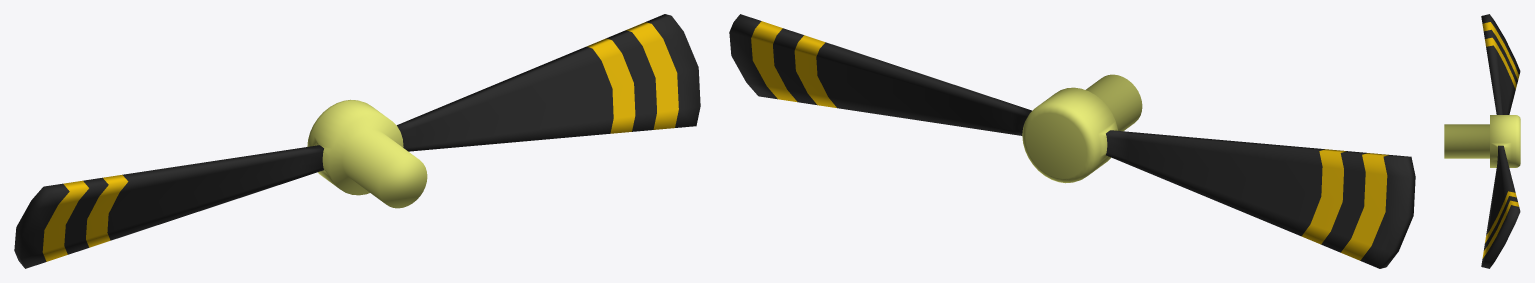
The model's file is cessnagodotprop.glb.
3 views of the same model, side by side, from view 1: azimuth 30°, elevation 25°; view 2: azimuth 150°, elevation 25°; view 3: azimuth 270°, elevation 25° (orthographic). The views are drawn at different scales.
Parts seen in each view (by area): view 1: Prop; view 2: Prop; view 3: Prop.
Part boxes in pixels (x1=…): Prop: x1=14, y1=14, x2=700, y2=268; Prop: x1=729, y1=14, x2=1415, y2=268; Prop: x1=1444, y1=14, x2=1520, y2=268.
Size of the model in its own units: 1.98 by 0.2676 by 0.3133.
